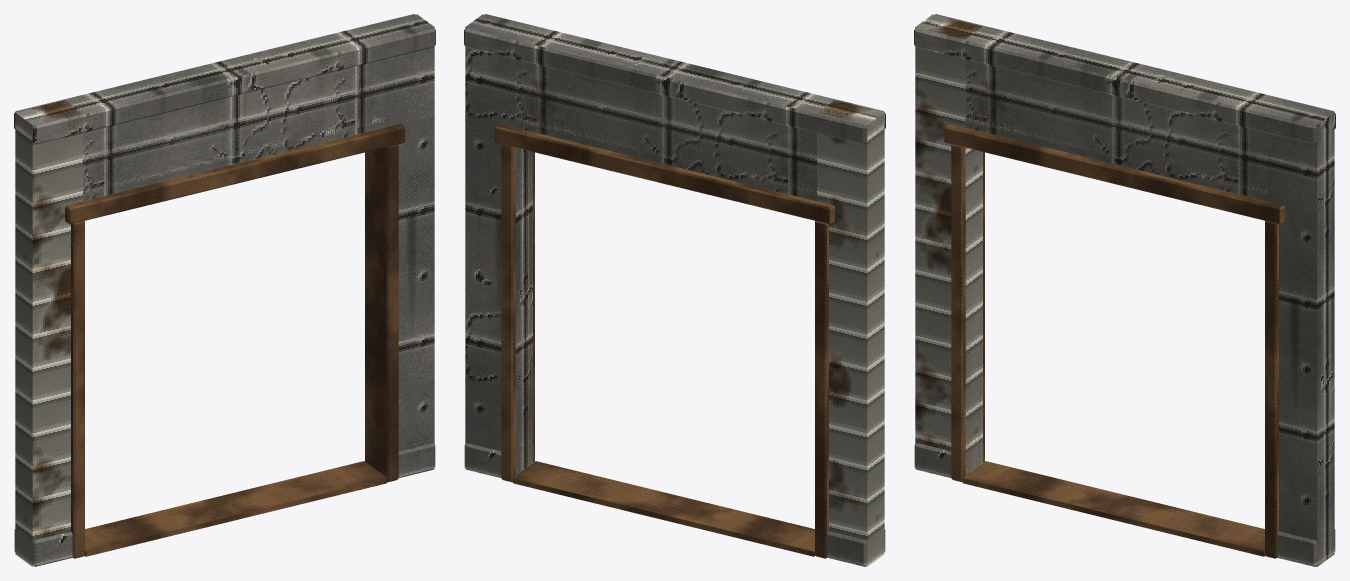
Rendered from wall_siding_white_door.glb.
3 views of the same model, side by side, from view 1: azimuth 30°, elevation 25°; view 2: azimuth 150°, elevation 25°; view 3: azimuth 330°, elevation 25° (orthographic).
Visible parts, largest first — view 1: wall_siding_white_door_mesh, wall_siding_white_door_col-colonly.002, wall_siding_white_door_col-colonly.001; view 2: wall_siding_white_door_mesh, wall_siding_white_door_col-colonly.002, wall_siding_white_door_col-colonly.001; view 3: wall_siding_white_door_mesh, wall_siding_white_door_col-colonly.002, wall_siding_white_door_col-colonly.001.
Part boxes in pixels (x1=…): wall_siding_white_door_mesh: x1=14, y1=14, x2=435, y2=566; wall_siding_white_door_col-colonly.002: x1=66, y1=26, x2=384, y2=200; wall_siding_white_door_col-colonly.001: x1=367, y1=14, x2=434, y2=464; wall_siding_white_door_mesh: x1=464, y1=14, x2=885, y2=566; wall_siding_white_door_col-colonly.002: x1=515, y1=26, x2=833, y2=200; wall_siding_white_door_col-colonly.001: x1=465, y1=14, x2=532, y2=475; wall_siding_white_door_mesh: x1=914, y1=14, x2=1335, y2=566; wall_siding_white_door_col-colonly.002: x1=965, y1=26, x2=1283, y2=200; wall_siding_white_door_col-colonly.001: x1=1267, y1=100, x2=1334, y2=566.
Size of what is drawn, in the model's own units: 4 by 4.2 by 0.44.
Materials: 3 (3 with a texture image).
